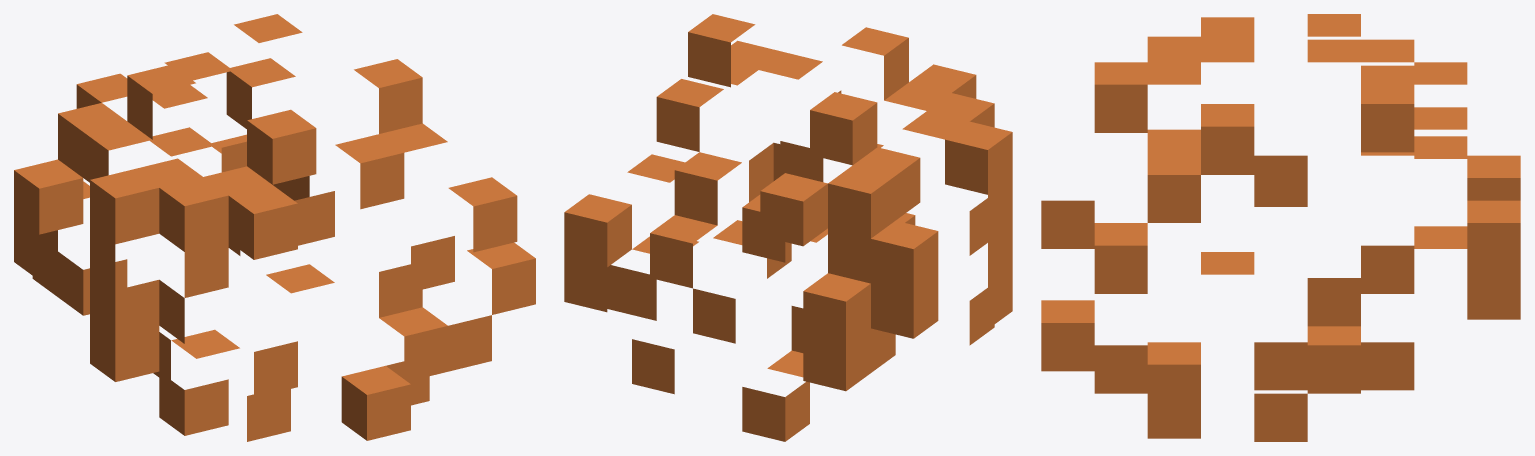
The model's file is tree-maple-0p9-maple-e07f3a.gltf.
3 renders of one model, left to right at view 1: azimuth 30°, elevation 25°; view 2: azimuth 150°, elevation 25°; view 3: azimuth 270°, elevation 25°, orthographic. The views are drawn at different scales.
Parts seen in each view (by area): view 1: tree-maple-0p9-maple-e07f3a; view 2: tree-maple-0p9-maple-e07f3a; view 3: tree-maple-0p9-maple-e07f3a.
Part boxes in pixels (x1,y1,x2,y2): tree-maple-0p9-maple-e07f3a: [14, 14, 535, 441]; tree-maple-0p9-maple-e07f3a: [564, 14, 1012, 441]; tree-maple-0p9-maple-e07f3a: [1041, 14, 1520, 441].
Size of the model in its own units: 9 by 7 by 9.
